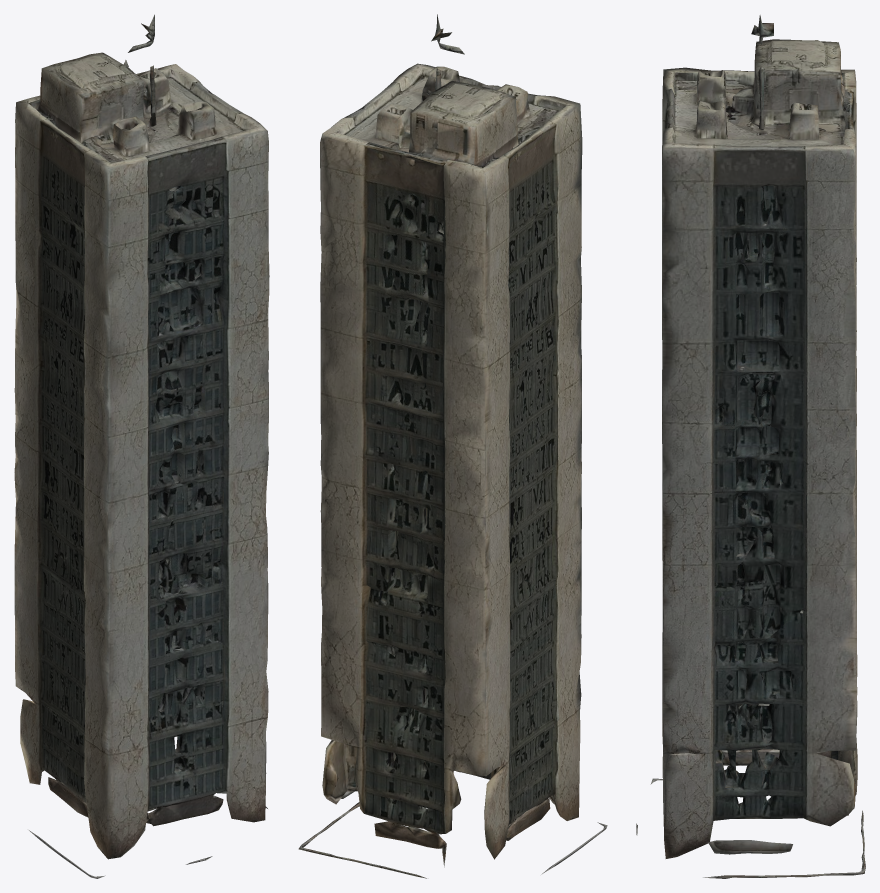
Rendered from Bldg_Tower.glb.
3 views of the same model, side by side, from view 1: azimuth 30°, elevation 25°; view 2: azimuth 150°, elevation 25°; view 3: azimuth 270°, elevation 25° (orthographic). The views are drawn at different scales.
Visible parts, largest first — view 1: texture_mapping; view 2: texture_mapping; view 3: texture_mapping.
Boxes of the visible parts, bbox=[...] form: texture_mapping: bbox=[14, 14, 269, 878]; texture_mapping: bbox=[298, 14, 607, 878]; texture_mapping: bbox=[636, 15, 865, 878].
Size of the model in its own units: 0.2673 by 1 by 0.2534.
Materials: 1 (1 with a texture image).
